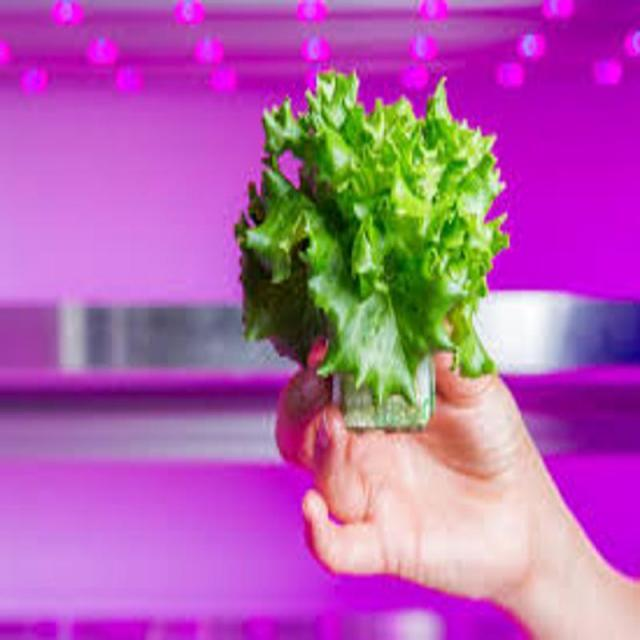Lettuce: (233, 68, 507, 400)
